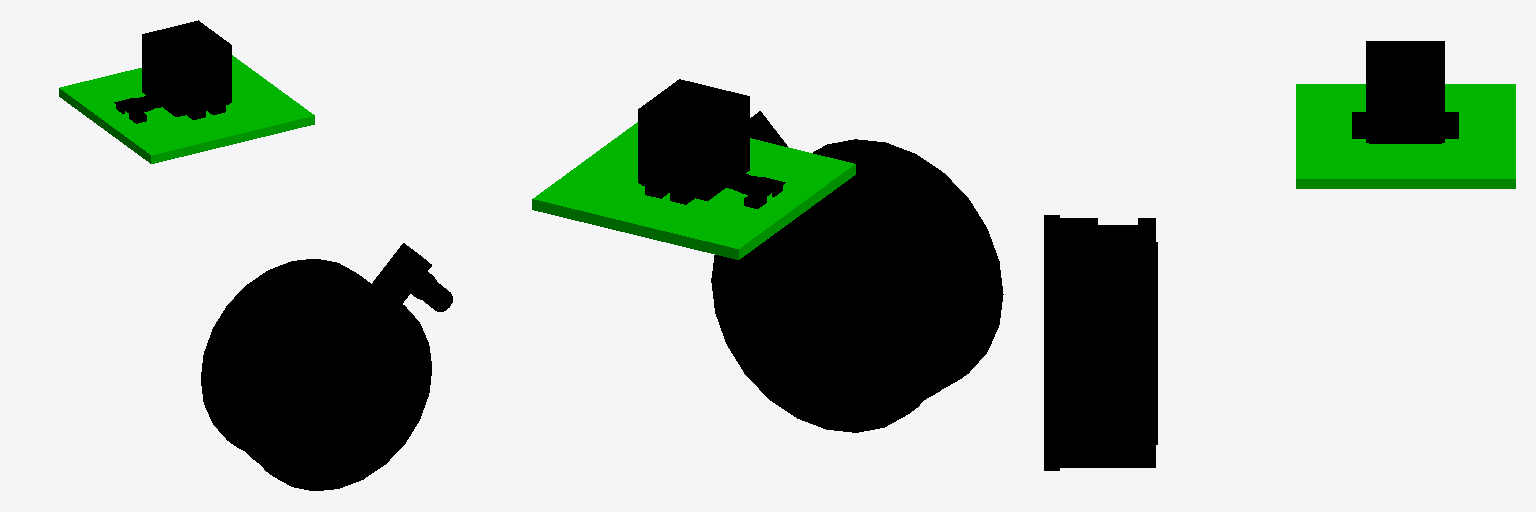
URDF robot description (grips):
<?xml version="1.0" ?>
<!-- =================================================================================== -->
<!-- |    This document was autogenerated by xacro from robotiq_demo.xacro             | -->
<!-- |    EDITING THIS FILE BY HAND IS NOT RECOMMENDED                                 | -->
<!-- =================================================================================== -->
<robot name="grips" xmlns:xacro="http://ros.org/wiki/xacro">
  <!-- Import common macros-->
  <!-- Import materials for rviz-->
  <material name="black">
    <color rgba="0.0 0.0 0.0 1.0"/>
  </material>
  <material name="blue">
    <color rgba="0.0 0.0 0.8 1.0"/>
  </material>
  <material name="green">
    <color rgba="0.0 0.8 0.0 1.0"/>
  </material>
  <material name="grey">
    <color rgba="0.2 0.2 0.2 1.0"/>
  </material>
  <material name="orange">
    <color rgba="1.0 0.423529411765 0.0392156862745 1.0"/>
  </material>
  <material name="brown">
    <color rgba="0.870588235294 0.811764705882 0.764705882353 1.0"/>
  </material>
  <material name="red">
    <color rgba="0.8 0.0 0.0 1.0"/>
  </material>
  <material name="white">
    <color rgba="1.0 1.0 1.0 1.0"/>
  </material>
  <material name="metal_seamed">
    <color rgba="0.4627450980392157 0.4666666666666667 0.4509803921568628 1.0"/>
  </material>
  <!-- Import ft sensor -->
  <!-- Import imu sensor -->
  <!-- Import robotiq s model -->
  <!-- Create fixing links -->
  <link name="world"/>
  <link name="anchor_link"/>
  <joint name="anchor" type="fixed">
    <origin rpy="0 0 0" xyz="0 0 0.5"/>
    <parent link="world"/>
    <child link="anchor_link"/>
  </joint>
  <link name="ft_kraft_plate">
    <visual>
      <geometry>
        <mesh filename="package://grips_description/meshes/visual/ft_kraft_plate.dae"/>
      </geometry>
      <material name="black"/>
    </visual>
    <collision>
      <geometry>
        <mesh filename="package://grips_description/meshes/visual/ft_kraft_plate.dae"/>
      </geometry>
    </collision>
    <inertial>
      <origin rpy="0 0 0" xyz="-0.192e-3  1.769e-9    6.143e-3"/>
      <mass value="0.059"/>
      <inertia ixx="8.905e-6" ixy="0.0" ixz="4.509e-8" iyy="8.788e-6" iyz="0.0" izz="1.421e-5"/>
    </inertial>
  </link>
  <link name="ft_wrist_plate">
    <visual>
      <geometry>
        <mesh filename="package://grips_description/meshes/visual/ft_wrist_plate.dae"/>
      </geometry>
      <material name="black"/>
    </visual>
    <collision>
      <geometry>
        <mesh filename="package://grips_description/meshes/visual/ft_wrist_plate.dae"/>
      </geometry>
    </collision>
    <inertial>
      <origin rpy="0 0 0" xyz="-0.057e-3  1.648e-8    17.057e-3"/>
      <mass value="0.1478"/>
      <inertia ixx="4.686e-5" ixy="0.0" ixz="0.0" iyy="4.663e-5" iyz="0.0" izz="8.289e-5"/>
    </inertial>
  </link>
  <link name="ft_sensor">
    <visual>
      <geometry>
        <mesh filename="package://grips_description/meshes/visual/ft_sensor.dae"/>
      </geometry>
      <material name="black"/>
    </visual>
    <collision>
      <geometry>
        <mesh filename="package://grips_description/meshes/visual/ft_sensor.dae"/>
      </geometry>
    </collision>
    <inertial>
      <origin rpy="0 0 0" xyz="9.396e-4   0.017       -7.545e-4"/>
      <mass value="0.2396"/>
      <inertia ixx="1.055e-4" ixy="-7.262e-7" ixz="6.186e-6" iyy="1.7e-4" iyz="6.529e-7" izz="1.076e-4"/>
    </inertial>
  </link>
  <link name="ft_robotiq_plate">
    <visual>
      <geometry>
        <mesh filename="package://grips_description/meshes/visual/ft_robotiq_plate.dae"/>
      </geometry>
      <material name="black"/>
    </visual>
    <collision>
      <geometry>
        <mesh filename="package://grips_description/meshes/visual/ft_robotiq_plate.dae"/>
      </geometry>
    </collision>
    <inertial>
      <origin rpy="0 0 0" xyz="0.0        0.0         5.644e-3"/>
      <mass value="0.2304"/>
      <inertia ixx="9.43e-5" ixy="0.0" ixz="0.0" iyy="9.43e-5" iyz="0.0" izz="1.837e-4"/>
    </inertial>
  </link>
  <link name="ft_end_effector"/>
  <joint name="ft_robot_joint" type="fixed">
    <origin rpy="-1.57079632679 0 0" xyz="0 0 0"/>
    <parent link="anchor_link"/>
    <child link="ft_kraft_plate"/>
  </joint>
  <joint name="ft_wrist_joint" type="fixed">
    <origin rpy="0 0 0" xyz="0 0 0"/>
    <parent link="ft_kraft_plate"/>
    <child link="ft_wrist_plate"/>
  </joint>
  <joint name="ft_sensor_joint" type="fixed">
    <origin rpy="-1.57079632679 0 0" xyz="0 0 0.0564"/>
    <parent link="ft_wrist_plate"/>
    <child link="ft_sensor"/>
  </joint>
  <joint name="ft_plate_joint" type="fixed">
    <origin rpy="-1.57079632679 0 0" xyz="0 -11e-3 0"/>
    <parent link="ft_sensor"/>
    <child link="ft_robotiq_plate"/>
  </joint>
  <joint name="ft_end_joint" type="fixed">
    <origin rpy="-1.57079632679 0 0" xyz="0 0 0"/>
    <parent link="ft_robotiq_plate"/>
    <child link="ft_end_effector"/>
  </joint>
  <gazebo reference="WR">
    <provideFeedback>true</provideFeedback>
    <!-- FIXME: This sensor tag is never included in the sdf -->
    <sensor name="force_torque_sensor" type="force_torque">
      <always_on>1</always_on>
      <update_rate>100.0</update_rate>
      <visualize>1</visualize>
      <force_torque name="ft_sensor">
        <frame>child</frame>
      </force_torque>
    </sensor>
    <!-- *************************************************** -->
  </gazebo>
  <gazebo>
    <plugin filename="libgazebo_ros_ft_sensor.so" name="ft_sensor">
      <robotNamespace>/grips</robotNamespace>
      <updateRate>100.0</updateRate>
      <topicName>ft_raw</topicName>
      <jointName>WR</jointName>
    </plugin>
  </gazebo>
  <!-- Add the imu_sensor -->
  <link name="imu_sensor">
    <visual>
      <geometry>
        <mesh filename="package://grips_description/meshes/visual/adis1640x.dae"/>
      </geometry>
      <material name="black"/>
    </visual>
    <collision>
      <geometry>
        <mesh filename="package://grips_description/meshes/visual/adis1640x.dae"/>
      </geometry>
    </collision>
    <inertial>
      <origin rpy="0 0 0" xyz="-0.007e-3 11.349e-3 0.153e-3"/>
      <mass value="0.0245"/>
      <inertia ixx="1.181e-6" ixy="-9854e-10" ixz="-6.24e-10" iyy="1.188e-6" iyz="1.978e-8" izz="1.176e-6"/>
    </inertial>
  </link>
  <gazebo reference="imu_sensor">
    <material>Telerobcar/MetalSeamed</material>
    <turnGravityOff>false</turnGravityOff>
  </gazebo>
  <link name="imu_board">
    <inertial>
      <mass value="0.059"/>
      <origin xyz="0 0 0"/>
      <!--The 3x3 rotational inertia matrix. -->
      <inertia ixx="2.14988059583e-05" ixy="0" ixz="0" iyy="2.06820065167e-05" iyz="0" izz="2.06820065167e-05"/>
    </inertial>
    <visual>
      <origin rpy="0 0 0" xyz="0 0 0"/>
      <geometry>
        <box size="0.06477 0.06604 0.00337"/>
      </geometry>
      <material name="green"/>
    </visual>
    <collision>
      <origin rpy="0 0 0 " xyz="0 0 0"/>
      <geometry>
        <box size="0.06477 0.06604 0.00337"/>
      </geometry>
    </collision>
  </link>
  <gazebo reference="imu_board">
    <material>Gazebo/Green</material>
    <turnGravityOff>false</turnGravityOff>
  </gazebo>
  <joint name="board_joint" type="fixed">
    <origin rpy="0 0 -1.57079632679" xyz="0 0.13 0.067005"/>
    <parent link="anchor_link"/>
    <child link="imu_board"/>
  </joint>
  <joint name="imu_joint" type="fixed">
    <origin rpy="0 0 0" xyz="0 0 0.002435"/>
    <parent link="imu_board"/>
    <child link="imu_sensor"/>
  </joint>
  <gazebo>
    <plugin filename="libgazebo_ros_imu.so" name="imu_sensor">
      <robotNamespace>/grips</robotNamespace>
      <updateRate>500.0</updateRate>
      <topicName>imu</topicName>
      <bodyName>imu_board</bodyName>
    </plugin>
  </gazebo>
  <!-- Add robotiq hand -->
  <link name="finger_1_link_0">
    <visual>
      <origin rpy="0 0 0" xyz="0.020 0 0"/>
      <geometry>
        <mesh filename="package://robotiq_s_model_visualization/meshes/s-model_articulated/visual/link_0.STL"/>
      </geometry>
      <material name="black"/>
    </visual>
    <collision>
      <origin rpy="0 3.1416 -1.57" xyz="-0.0455 0.0414 0.036"/>
      <geometry>
        <mesh filename="package://robotiq_s_model_visualization/meshes/s-model_articulated/collision/link_0.STL"/>
      </geometry>
    </collision>
    <inertial>
      <origin rpy="0 0 0" xyz="0 0 0"/>
      <mass value="0.05"/>
      <inertia ixx="0.01" ixy="-0.00002" ixz="0.00001" iyy="0.0008" iyz="0" izz="0.001"/>
    </inertial>
  </link>
  <link name="finger_1_link_1">
    <visual>
      <origin rpy="0 0 -0.52" xyz="0.050 -.028 0"/>
      <geometry>
        <mesh filename="package://robotiq_s_model_visualization/meshes/s-model_articulated/visual/link_1.STL"/>
      </geometry>
      <material name="black"/>
    </visual>
    <collision>
      <origin rpy="0 0 -0.52" xyz="0.050 -.028 0"/>
      <geometry>
        <mesh filename="package://robotiq_s_model_visualization/meshes/s-model_articulated/collision/link_1.STL"/>
      </geometry>
    </collision>
    <inertial>
      <origin rpy="0 0 0" xyz="0 0 0"/>
      <mass value="0.15"/>
      <inertia ixx="0.001859" ixy="-0.000376" ixz="0.000028" iyy="0.012756" iyz="0" izz="0.0024"/>
    </inertial>
  </link>
  <link name="finger_1_link_2">
    <!--
      NOTE: This link has an offset in the z-direction based on the models that were
      used to generate grap-it poses.  With the offset below the model appears visually
      correct, but it is suspect.
      -->
    <visual>
      <origin rpy="0 0 0" xyz="0.039 0 0.0075"/>
      <geometry>
        <mesh filename="package://robotiq_s_model_visualization/meshes/s-model_articulated/visual/link_2.STL"/>
      </geometry>
      <material name="black"/>
    </visual>
    <collision>
      <origin rpy="0 0 0" xyz="0.039 0 0.0075"/>
      <geometry>
        <mesh filename="package://robotiq_s_model_visualization/meshes/s-model_articulated/collision/link_2.STL"/>
      </geometry>
    </collision>
    <inertial>
      <origin rpy="0 0 0" xyz="0 0 0"/>
      <mass value="0.15"/>
      <inertia ixx="0.001859" ixy="-0.000376" ixz="0.000028" iyy="0.012756" iyz="0" izz="0.0024"/>
    </inertial>
  </link>
  <link name="finger_1_link_3">
    <visual>
      <origin rpy="0 0 0.52" xyz="0 0 0"/>
      <geometry>
        <mesh filename="package://robotiq_s_model_visualization/meshes/s-model_articulated/visual/link_3.STL"/>
      </geometry>
      <material name="grey"/>
    </visual>
    <collision>
      <origin rpy="0 0 0.52" xyz="0 0 0"/>
      <geometry>
        <mesh filename="package://robotiq_s_model_visualization/meshes/s-model_articulated/collision/link_3.STL"/>
      </geometry>
    </collision>
    <inertial>
      <origin rpy="0 0 0" xyz="0 0 0"/>
      <mass value="0.05"/>
      <inertia ixx="0.001239" ixy="-0.000251" ixz="0.000019" iyy="0.00085" iyz="0" izz="0.001632"/>
    </inertial>
  </link>
  <joint name="finger_1_joint_1" type="fixed">
    <parent link="finger_1_link_0"/>
    <child link="finger_1_link_1"/>
    <axis xyz="0 0 1"/>
    <origin rpy="0 0 0" xyz="0.020 0 0"/>
  </joint>
  <joint name="finger_1_joint_2" type="fixed">
    <parent link="finger_1_link_1"/>
    <child link="finger_1_link_2"/>
    <axis xyz="0 0 1"/>
    <origin rpy="0 0 -0.52" xyz="0.050 -.028 0"/>
  </joint>
  <joint name="finger_1_joint_3" type="fixed">
    <parent link="finger_1_link_2"/>
    <child link="finger_1_link_3"/>
    <axis xyz="0 0 1"/>
    <origin rpy="0 0 0" xyz="0.039 0 0"/>
  </joint>
  <link name="finger_2_link_0">
    <visual>
      <origin rpy="0 0 0" xyz="0.020 0 0"/>
      <geometry>
        <mesh filename="package://robotiq_s_model_visualization/meshes/s-model_articulated/visual/link_0.STL"/>
      </geometry>
      <material name="black"/>
    </visual>
    <collision>
      <origin rpy="0 3.1416 -1.57" xyz="-0.0455 0.0414 0.036"/>
      <geometry>
        <mesh filename="package://robotiq_s_model_visualization/meshes/s-model_articulated/collision/link_0.STL"/>
      </geometry>
    </collision>
    <inertial>
      <origin rpy="0 0 0" xyz="0 0 0"/>
      <mass value="0.05"/>
      <inertia ixx="0.01" ixy="-0.00002" ixz="0.00001" iyy="0.0008" iyz="0" izz="0.001"/>
    </inertial>
  </link>
  <link name="finger_2_link_1">
    <visual>
      <origin rpy="0 0 -0.52" xyz="0.050 -.028 0"/>
      <geometry>
        <mesh filename="package://robotiq_s_model_visualization/meshes/s-model_articulated/visual/link_1.STL"/>
      </geometry>
      <material name="black"/>
    </visual>
    <collision>
      <origin rpy="0 0 -0.52" xyz="0.050 -.028 0"/>
      <geometry>
        <mesh filename="package://robotiq_s_model_visualization/meshes/s-model_articulated/collision/link_1.STL"/>
      </geometry>
    </collision>
    <inertial>
      <origin rpy="0 0 0" xyz="0 0 0"/>
      <mass value="0.15"/>
      <inertia ixx="0.001859" ixy="-0.000376" ixz="0.000028" iyy="0.012756" iyz="0" izz="0.0024"/>
    </inertial>
  </link>
  <link name="finger_2_link_2">
    <!--
      NOTE: This link has an offset in the z-direction based on the models that were
      used to generate grap-it poses.  With the offset below the model appears visually
      correct, but it is suspect.
      -->
    <visual>
      <origin rpy="0 0 0" xyz="0.039 0 0.0075"/>
      <geometry>
        <mesh filename="package://robotiq_s_model_visualization/meshes/s-model_articulated/visual/link_2.STL"/>
      </geometry>
      <material name="black"/>
    </visual>
    <collision>
      <origin rpy="0 0 0" xyz="0.039 0 0.0075"/>
      <geometry>
        <mesh filename="package://robotiq_s_model_visualization/meshes/s-model_articulated/collision/link_2.STL"/>
      </geometry>
    </collision>
    <inertial>
      <origin rpy="0 0 0" xyz="0 0 0"/>
      <mass value="0.15"/>
      <inertia ixx="0.001859" ixy="-0.000376" ixz="0.000028" iyy="0.012756" iyz="0" izz="0.0024"/>
    </inertial>
  </link>
  <link name="finger_2_link_3">
    <visual>
      <origin rpy="0 0 0.52" xyz="0 0 0"/>
      <geometry>
        <mesh filename="package://robotiq_s_model_visualization/meshes/s-model_articulated/visual/link_3.STL"/>
      </geometry>
      <material name="grey"/>
    </visual>
    <collision>
      <origin rpy="0 0 0.52" xyz="0 0 0"/>
      <geometry>
        <mesh filename="package://robotiq_s_model_visualization/meshes/s-model_articulated/collision/link_3.STL"/>
      </geometry>
    </collision>
    <inertial>
      <origin rpy="0 0 0" xyz="0 0 0"/>
      <mass value="0.05"/>
      <inertia ixx="0.001239" ixy="-0.000251" ixz="0.000019" iyy="0.00085" iyz="0" izz="0.001632"/>
    </inertial>
  </link>
  <joint name="finger_2_joint_1" type="fixed">
    <parent link="finger_2_link_0"/>
    <child link="finger_2_link_1"/>
    <axis xyz="0 0 1"/>
    <origin rpy="0 0 0" xyz="0.020 0 0"/>
  </joint>
  <joint name="finger_2_joint_2" type="fixed">
    <parent link="finger_2_link_1"/>
    <child link="finger_2_link_2"/>
    <axis xyz="0 0 1"/>
    <origin rpy="0 0 -0.52" xyz="0.050 -.028 0"/>
  </joint>
  <joint name="finger_2_joint_3" type="fixed">
    <parent link="finger_2_link_2"/>
    <child link="finger_2_link_3"/>
    <axis xyz="0 0 1"/>
    <origin rpy="0 0 0" xyz="0.039 0 0"/>
  </joint>
  <link name="finger_middle_link_0">
    <visual>
      <origin rpy="0 0 0" xyz="0.020 0 0"/>
      <geometry>
        <mesh filename="package://robotiq_s_model_visualization/meshes/s-model_articulated/visual/link_0.STL"/>
      </geometry>
      <material name="black"/>
    </visual>
    <collision>
      <origin rpy="0 3.1416 -1.57" xyz="-0.0455 0.0414 0.036"/>
      <geometry>
        <mesh filename="package://robotiq_s_model_visualization/meshes/s-model_articulated/collision/link_0.STL"/>
      </geometry>
    </collision>
    <inertial>
      <origin rpy="0 0 0" xyz="0 0 0"/>
      <mass value="0.05"/>
      <inertia ixx="0.01" ixy="-0.00002" ixz="0.00001" iyy="0.0008" iyz="0" izz="0.001"/>
    </inertial>
  </link>
  <link name="finger_middle_link_1">
    <visual>
      <origin rpy="0 0 -0.52" xyz="0.050 -.028 0"/>
      <geometry>
        <mesh filename="package://robotiq_s_model_visualization/meshes/s-model_articulated/visual/link_1.STL"/>
      </geometry>
      <material name="black"/>
    </visual>
    <collision>
      <origin rpy="0 0 -0.52" xyz="0.050 -.028 0"/>
      <geometry>
        <mesh filename="package://robotiq_s_model_visualization/meshes/s-model_articulated/collision/link_1.STL"/>
      </geometry>
    </collision>
    <inertial>
      <origin rpy="0 0 0" xyz="0 0 0"/>
      <mass value="0.15"/>
      <inertia ixx="0.001859" ixy="-0.000376" ixz="0.000028" iyy="0.012756" iyz="0" izz="0.0024"/>
    </inertial>
  </link>
  <link name="finger_middle_link_2">
    <!--
      NOTE: This link has an offset in the z-direction based on the models that were
      used to generate grap-it poses.  With the offset below the model appears visually
      correct, but it is suspect.
      -->
    <visual>
      <origin rpy="0 0 0" xyz="0.039 0 0.0075"/>
      <geometry>
        <mesh filename="package://robotiq_s_model_visualization/meshes/s-model_articulated/visual/link_2.STL"/>
      </geometry>
      <material name="black"/>
    </visual>
    <collision>
      <origin rpy="0 0 0" xyz="0.039 0 0.0075"/>
      <geometry>
        <mesh filename="package://robotiq_s_model_visualization/meshes/s-model_articulated/collision/link_2.STL"/>
      </geometry>
    </collision>
    <inertial>
      <origin rpy="0 0 0" xyz="0 0 0"/>
      <mass value="0.15"/>
      <inertia ixx="0.001859" ixy="-0.000376" ixz="0.000028" iyy="0.012756" iyz="0" izz="0.0024"/>
    </inertial>
  </link>
  <link name="finger_middle_link_3">
    <visual>
      <origin rpy="0 0 0.52" xyz="0 0 0"/>
      <geometry>
        <mesh filename="package://robotiq_s_model_visualization/meshes/s-model_articulated/visual/link_3.STL"/>
      </geometry>
      <material name="grey"/>
    </visual>
    <collision>
      <origin rpy="0 0 0.52" xyz="0 0 0"/>
      <geometry>
        <mesh filename="package://robotiq_s_model_visualization/meshes/s-model_articulated/collision/link_3.STL"/>
      </geometry>
    </collision>
    <inertial>
      <origin rpy="0 0 0" xyz="0 0 0"/>
      <mass value="0.05"/>
      <inertia ixx="0.001239" ixy="-0.000251" ixz="0.000019" iyy="0.00085" iyz="0" izz="0.001632"/>
    </inertial>
  </link>
  <joint name="finger_middle_joint_1" type="fixed">
    <parent link="finger_middle_link_0"/>
    <child link="finger_middle_link_1"/>
    <axis xyz="0 0 1"/>
    <origin rpy="0 0 0" xyz="0.020 0 0"/>
  </joint>
  <joint name="finger_middle_joint_2" type="fixed">
    <parent link="finger_middle_link_1"/>
    <child link="finger_middle_link_2"/>
    <axis xyz="0 0 1"/>
    <origin rpy="0 0 -0.52" xyz="0.050 -.028 0"/>
  </joint>
  <joint name="finger_middle_joint_3" type="fixed">
    <parent link="finger_middle_link_2"/>
    <child link="finger_middle_link_3"/>
    <axis xyz="0 0 1"/>
    <origin rpy="0 0 0" xyz="0.039 0 0"/>
  </joint>
  <link name="palm">
    <visual>
      <geometry>
        <mesh filename="package://robotiq_s_model_visualization/meshes/s-model_articulated/visual/palm.STL"/>
      </geometry>
      <material name="black"/>
    </visual>
    <collision>
      <geometry>
        <mesh filename="package://robotiq_s_model_visualization/meshes/s-model_articulated/collision/palm.STL"/>
      </geometry>
    </collision>
    <inertial>
      <origin rpy="0 0 0" xyz="0 0 0"/>
      <mass value="1.3"/>
      <inertia ixx="0.006012" ixy="0.000079" ixz="-0.00024" iyy="0.012892" iyz="0" izz="0.002435"/>
    </inertial>
  </link>
  <joint name="palm_finger_1_joint" type="fixed">
    <parent link="palm"/>
    <child link="finger_1_link_0"/>
    <axis xyz="0 1 0"/>
    <origin rpy="0 3.1416 -1.57" xyz="-0.0455 0.0214 0.036"/>
  </joint>
  <joint name="palm_finger_2_joint" type="fixed">
    <parent link="palm"/>
    <child link="finger_2_link_0"/>
    <axis xyz="0 1 0"/>
    <origin rpy="0 3.1416 -1.57" xyz="-0.0455 0.0214 -0.036"/>
  </joint>
  <joint name="palm_finger_middle_joint" type="fixed">
    <parent link="palm"/>
    <child link="finger_middle_link_0"/>
    <axis xyz="0 0 1"/>
    <origin rpy="0 0 1.57" xyz="0.0455 0.0214 0"/>
  </joint>
  <gazebo reference="palm">
    <material>Gazebo/FlatBlack</material>
    <turnGravityOff>false</turnGravityOff>
  </gazebo>
  <!-- Used for fixing Robotiq to the FT sensor -->
  <joint name="robotiq_anchor" type="fixed">
    <origin rpy="0 0 0" xyz="0 54e-3 0"/>
    <parent link="ft_end_effector"/>
    <child link="palm"/>
  </joint>
  <!-- ros_control plugin -->
  <gazebo>
    <plugin filename="libgazebo_ros_control.so" name="ros_control"/>
  </gazebo>
</robot>

--- Render facts (derived) ---
3 views of the same robot in one strip: view 1: azimuth 30°, elevation 25°; view 2: azimuth 150°, elevation 25°; view 3: azimuth 270°, elevation 25° (orthographic).
Robot: grips — 22 links, 21 joints (21 fixed); root link world; default pose: all joints at 0.
Links seen in each view (by area): view 1: ft_sensor, imu_board, imu_sensor; view 2: ft_sensor, imu_board, imu_sensor; view 3: ft_sensor, imu_board, imu_sensor.
Boxes of the visible links, box(x1,y1,x2,y2) form: ft_sensor: box(201, 243, 452, 490); imu_board: box(59, 55, 314, 163); imu_sensor: box(114, 20, 231, 123); ft_sensor: box(711, 111, 1003, 432); imu_board: box(532, 122, 855, 259); imu_sensor: box(638, 79, 785, 208); ft_sensor: box(1044, 215, 1157, 470); imu_board: box(1296, 84, 1515, 188); imu_sensor: box(1352, 41, 1458, 143).
Size in the robot's own frame: 0.0901 by 0.1387 by 0.1304 metres.
Meshes: 10 distinct files referenced, 2 mesh visuals loaded (2 Collada DAE); not drawn: 16 (reference not matched to a file when rendering).